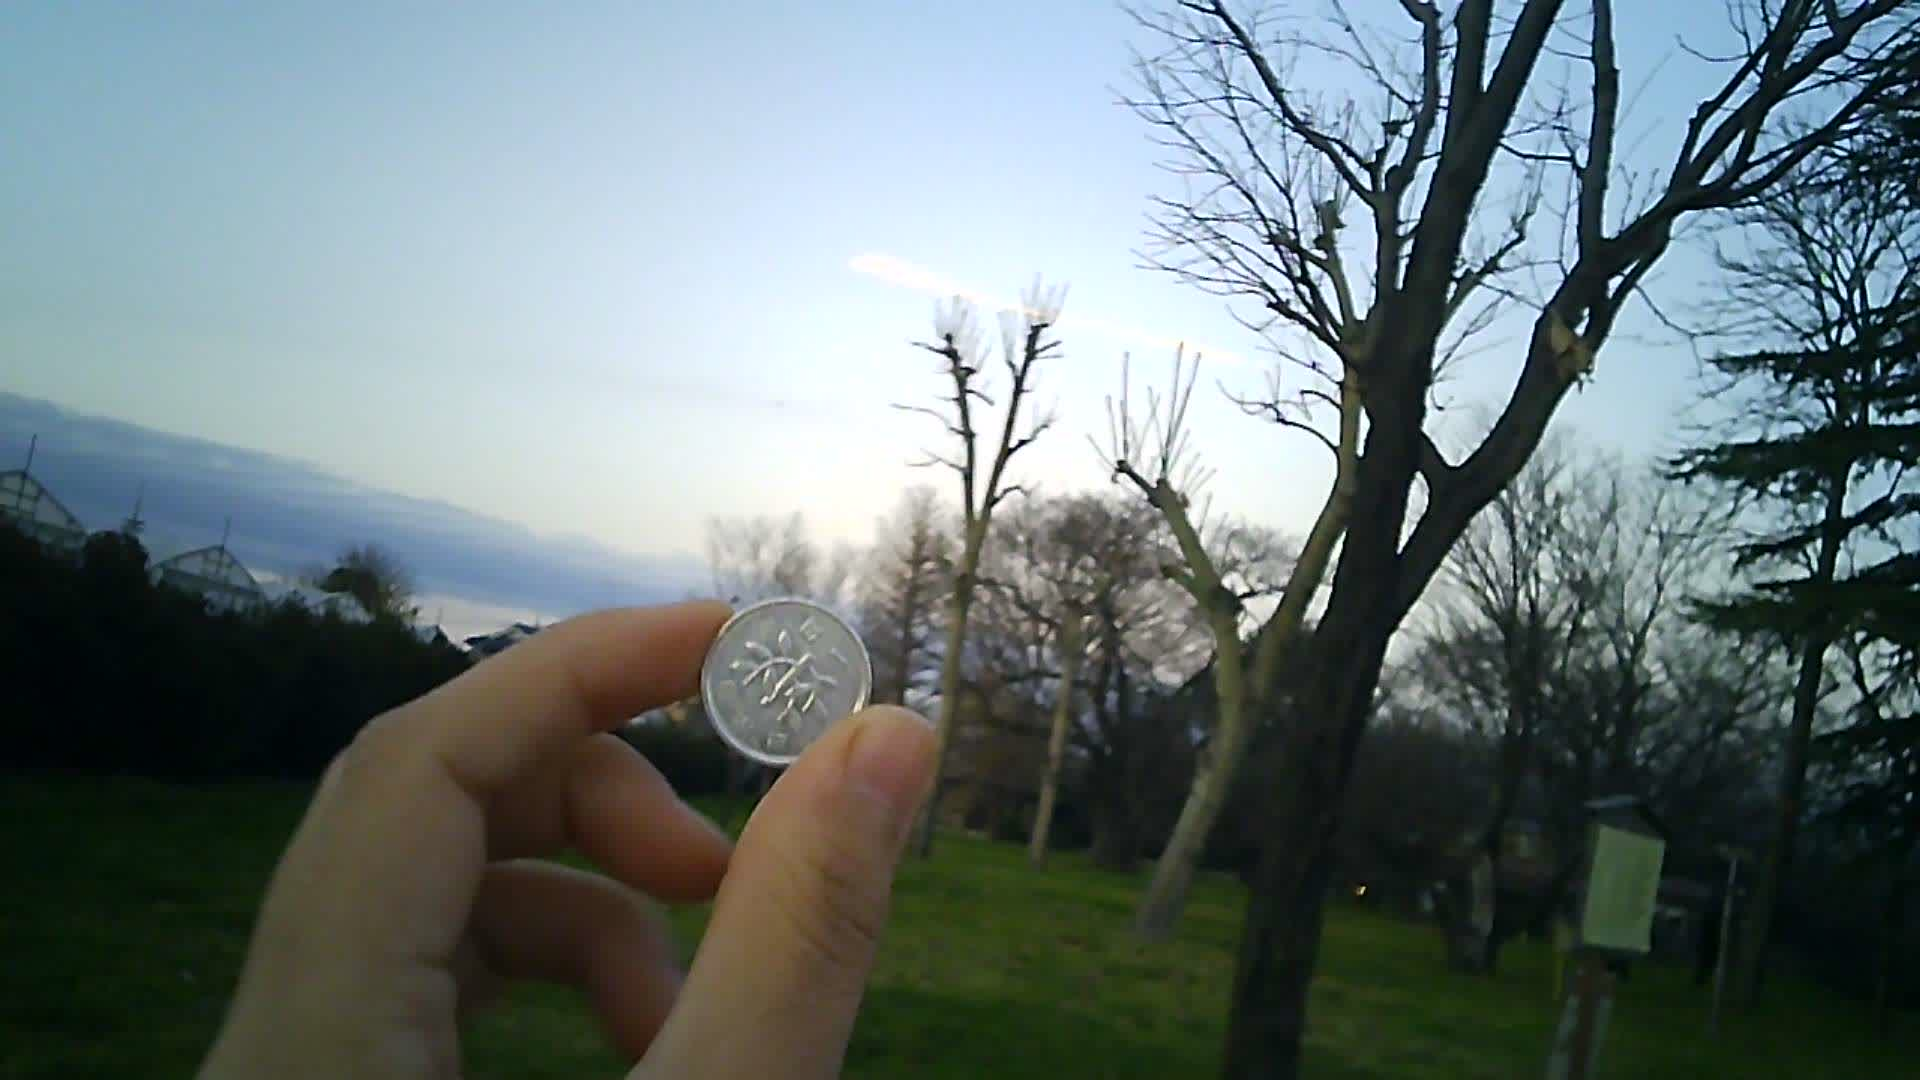1 Yen: (702, 597, 884, 765)
